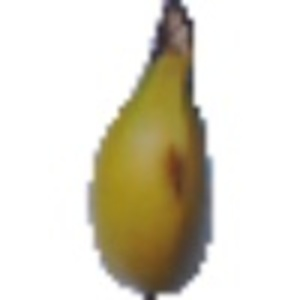banana: (85, 3, 218, 293)
